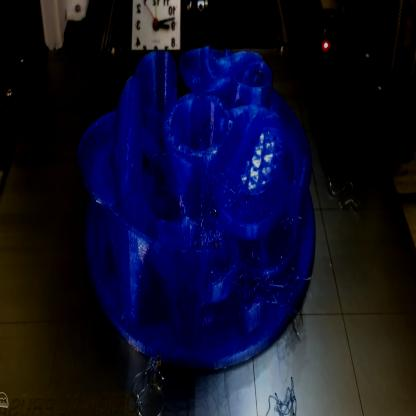fail: (224, 212, 304, 316)
